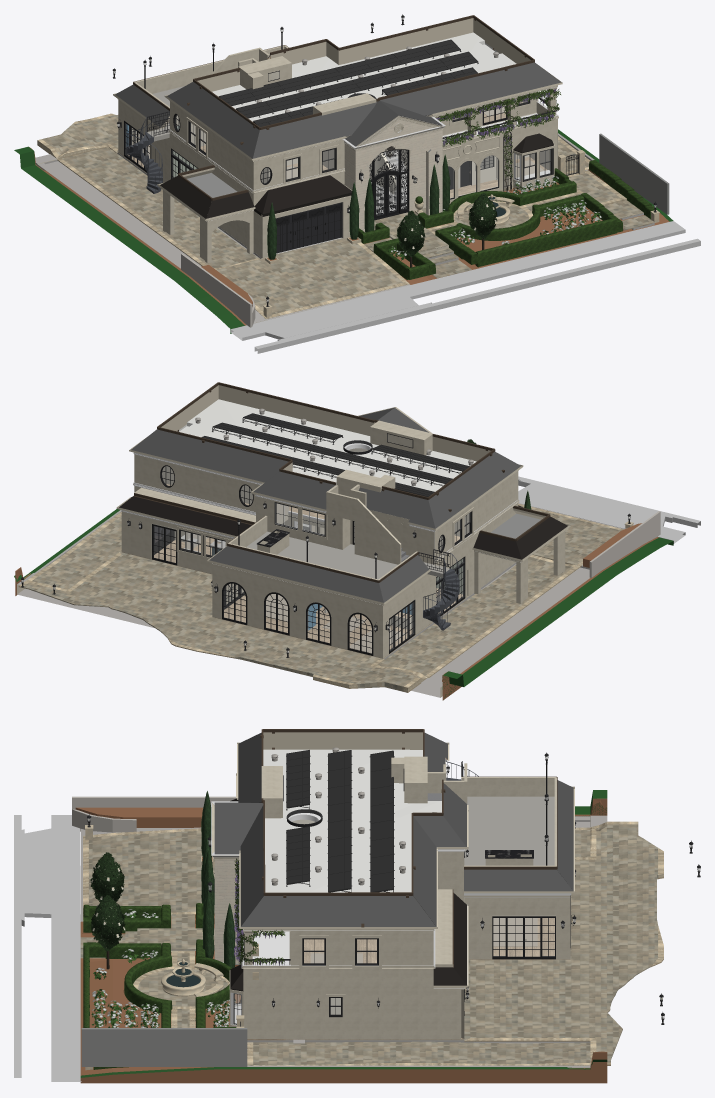
The model's file is exterior-house-7585b0dccac4.glb.
3 views of the same model, one above another, from view 1: azimuth 30°, elevation 25°; view 2: azimuth 150°, elevation 25°; view 3: azimuth 270°, elevation 25° (orthographic). The views are drawn at different scales.
Visible parts, largest first — view 1: exterior-house-2097c6bf0b01330b, exterior-house-b5dfe7249a3eb059, exterior-house-e7e6fa835f441169, exterior-house-27d577fbd7f2ff4b, exterior-house-aee2d046b0172b1e, exterior-house-772a07b3069847f0, exterior-house-e33d7b378dc851e2, exterior-house-d56ee2a9d54b1fc2, exterior-house-8ae50a6395ceb8a4, exterior-house-0b9d5d1cd0b2c60f, exterior-house-7cf8e5cfa8b264af, exterior-house-25c3ff3929e46046 (+45 smaller); view 2: exterior-house-37d1b262fca80116, exterior-house-d56ee2a9d54b1fc2, exterior-house-27d577fbd7f2ff4b, exterior-house-8ae50a6395ceb8a4, exterior-house-969b861f9850351e, exterior-house-aee2d046b0172b1e, exterior-house-c91f911e25c8cae7, exterior-house-5febae1537653d02, exterior-house-3763e2fb8578d282, exterior-house-b5dfe7249a3eb059, exterior-house-2c1fd33d433632d0, exterior-house-0cae3eb2f2d52fad (+38 smaller); view 3: exterior-house-37d1b262fca80116, exterior-house-aee2d046b0172b1e, exterior-house-b5dfe7249a3eb059, exterior-house-d56ee2a9d54b1fc2, exterior-house-2c1fd33d433632d0, exterior-house-2097c6bf0b01330b, exterior-house-07f5bde4319b7ab4, exterior-house-e7e6fa835f441169, exterior-house-a75a0c9c223328ee, exterior-house-ded88bd99590d377, exterior-house-af97eba351c411ae, exterior-house-e706aa16b4547c37 (+54 smaller).
Part boxes in pixels (bbox=[...]): exterior-house-2097c6bf0b01330b: bbox=[216, 237, 409, 318]; exterior-house-b5dfe7249a3eb059: bbox=[230, 221, 685, 340]; exterior-house-e7e6fa835f441169: bbox=[358, 181, 616, 279]; exterior-house-27d577fbd7f2ff4b: bbox=[57, 147, 260, 269]; exterior-house-aee2d046b0172b1e: bbox=[14, 129, 673, 333]; exterior-house-772a07b3069847f0: bbox=[254, 238, 700, 353]; exterior-house-e33d7b378dc851e2: bbox=[380, 62, 560, 115]; exterior-house-d56ee2a9d54b1fc2: bbox=[212, 32, 516, 121]; exterior-house-8ae50a6395ceb8a4: bbox=[35, 133, 594, 323]; exterior-house-0b9d5d1cd0b2c60f: bbox=[236, 51, 478, 118]; exterior-house-7cf8e5cfa8b264af: bbox=[218, 39, 461, 105]; exterior-house-25c3ff3929e46046: bbox=[253, 101, 377, 158]; exterior-house-37d1b262fca80116: bbox=[18, 552, 427, 692]; exterior-house-d56ee2a9d54b1fc2: bbox=[181, 399, 476, 491]; exterior-house-27d577fbd7f2ff4b: bbox=[377, 555, 580, 677]; exterior-house-8ae50a6395ceb8a4: bbox=[17, 503, 624, 697]; exterior-house-969b861f9850351e: bbox=[212, 566, 380, 657]; exterior-house-aee2d046b0172b1e: bbox=[14, 509, 673, 700]; exterior-house-c91f911e25c8cae7: bbox=[131, 429, 288, 482]; exterior-house-5febae1537653d02: bbox=[209, 546, 383, 602]; exterior-house-3763e2fb8578d282: bbox=[134, 454, 259, 512]; exterior-house-b5dfe7249a3eb059: bbox=[518, 484, 685, 543]; exterior-house-2c1fd33d433632d0: bbox=[28, 512, 121, 589]; exterior-house-0cae3eb2f2d52fad: bbox=[428, 451, 520, 528]; exterior-house-37d1b262fca80116: bbox=[464, 821, 663, 1065]; exterior-house-aee2d046b0172b1e: bbox=[80, 790, 607, 1083]; exterior-house-b5dfe7249a3eb059: bbox=[24, 815, 81, 1081]; exterior-house-d56ee2a9d54b1fc2: bbox=[263, 749, 441, 892]; exterior-house-2c1fd33d433632d0: bbox=[247, 1041, 590, 1065]; exterior-house-2097c6bf0b01330b: bbox=[83, 828, 214, 921]; exterior-house-07f5bde4319b7ab4: bbox=[81, 1028, 247, 1066]; exterior-house-e7e6fa835f441169: bbox=[83, 903, 231, 1027]; exterior-house-a75a0c9c223328ee: bbox=[241, 896, 436, 926]; exterior-house-ded88bd99590d377: bbox=[464, 796, 554, 865]; exterior-house-af97eba351c411ae: bbox=[372, 979, 461, 1038]; exterior-house-e706aa16b4547c37: bbox=[464, 897, 567, 959].
Size of the model in its own units: 31.9 by 8.68 by 35.2.
Materials: 110 (31 with a texture image).
